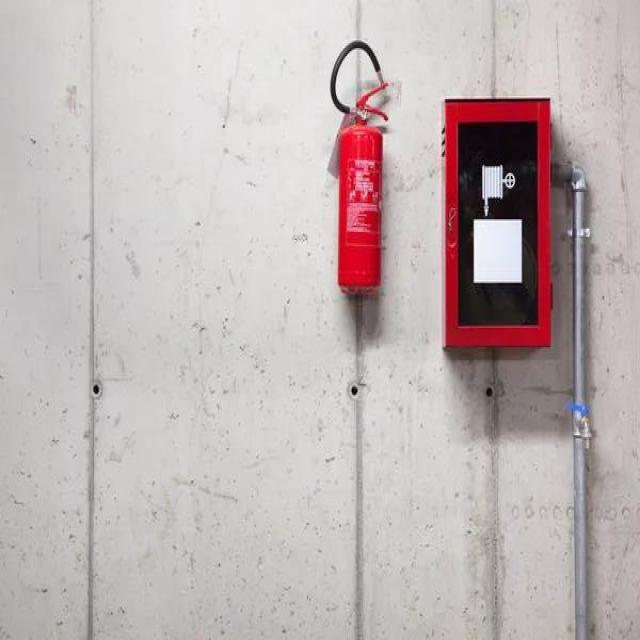fire_extinguisher: (321, 34, 397, 298)
